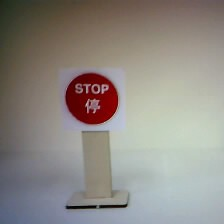stop: (54, 64, 132, 132)
